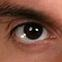eye: (24, 24, 43, 39)
